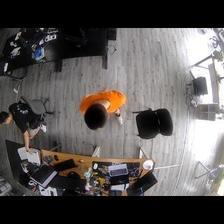normal: (1, 97, 48, 146), (78, 88, 125, 133)
